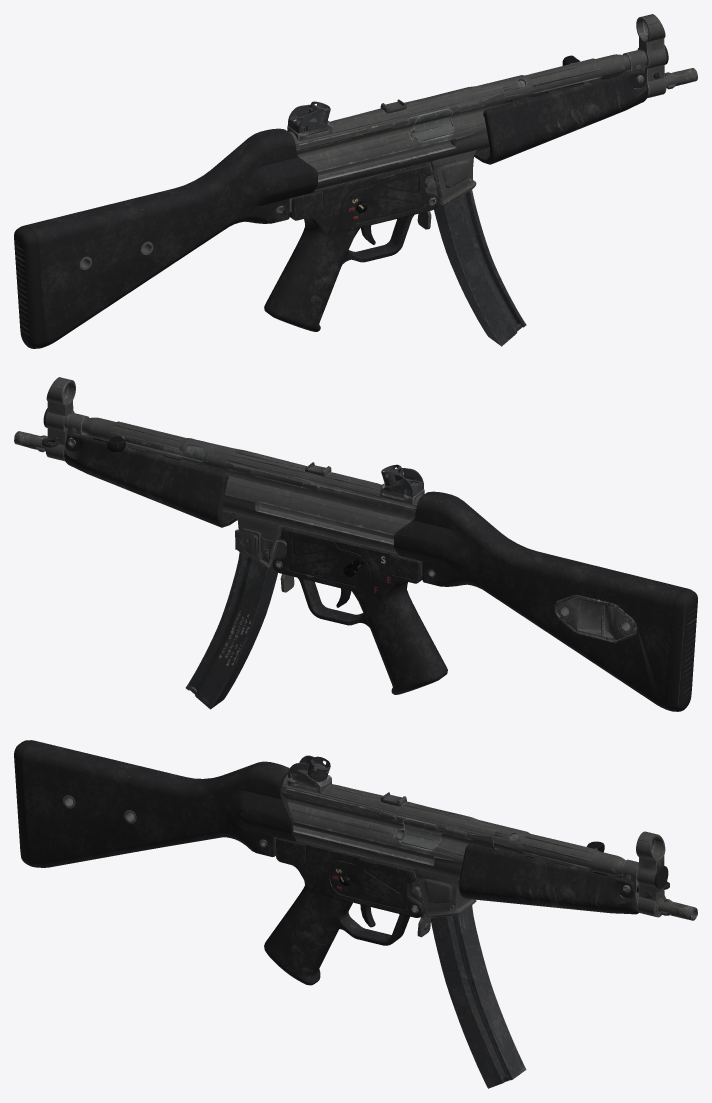
The picture shows the model from 3 angles, top to bottom: view 1: azimuth 30°, elevation 25°; view 2: azimuth 150°, elevation 25°; view 3: azimuth 330°, elevation 25°; orthographic projection.
Visible parts, largest first — view 1: Mp 5; view 2: Mp 5; view 3: Mp 5.
Boxes of the visible parts, left/top/right/bottom form: Mp 5: left=14, top=14, right=697, bottom=348; Mp 5: left=14, top=377, right=697, bottom=711; Mp 5: left=14, top=740, right=697, bottom=1088.
Bounding box in the file's own units: 484 × 197 × 43.61.
1 material, 1 textured.
